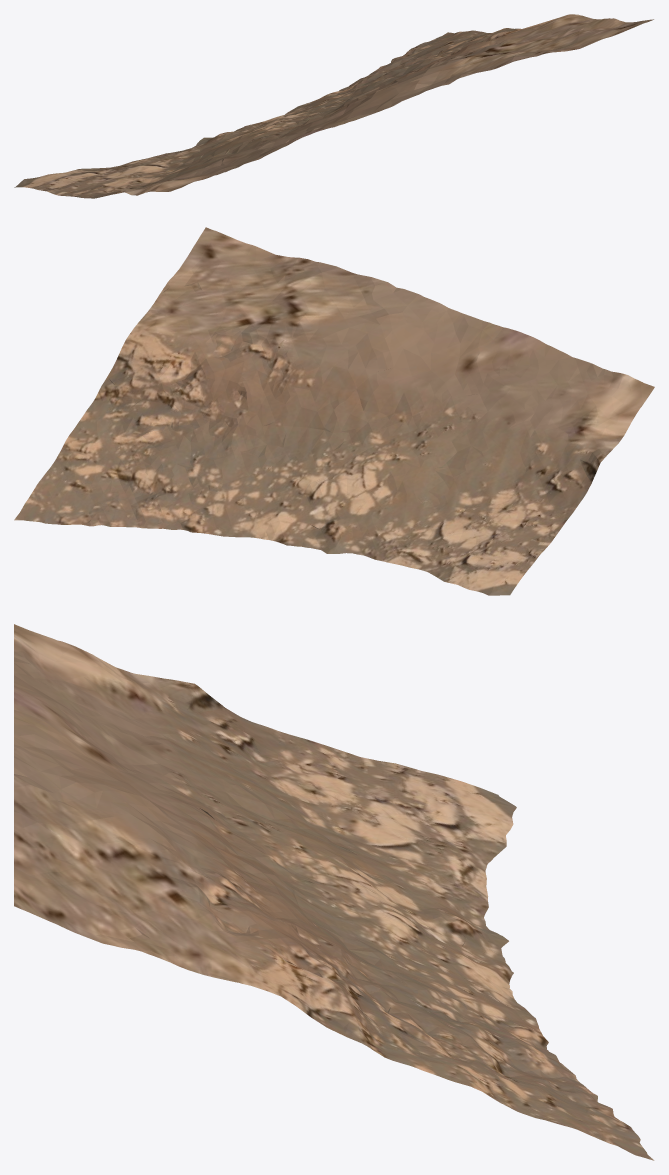
3 views of the same model, one above another, from view 1: azimuth 30°, elevation 25°; view 2: azimuth 150°, elevation 25°; view 3: azimuth 270°, elevation 25° (orthographic). The views are drawn at different scales.
Bounding box in the file's own units: 1.04 × 0.339 × 0.773.
2 materials, 2 textured.
